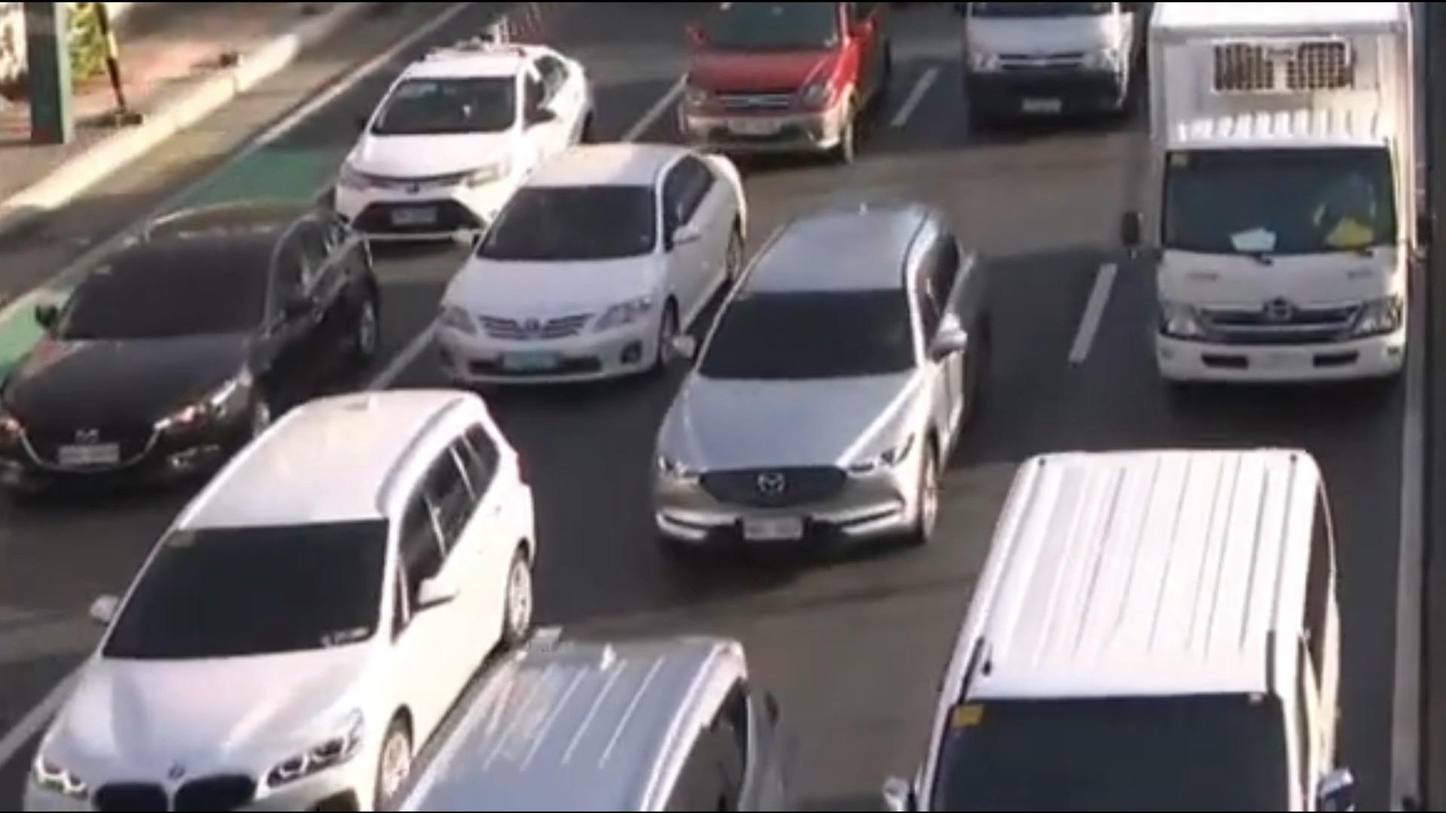SUV: (15, 384, 538, 813), (644, 211, 992, 553), (667, 0, 897, 168)
Sedan: (0, 213, 390, 485), (444, 141, 742, 390), (328, 45, 602, 244)
Truck: (1130, 0, 1446, 406)
Van: (875, 441, 1359, 813), (953, 0, 1132, 137)
